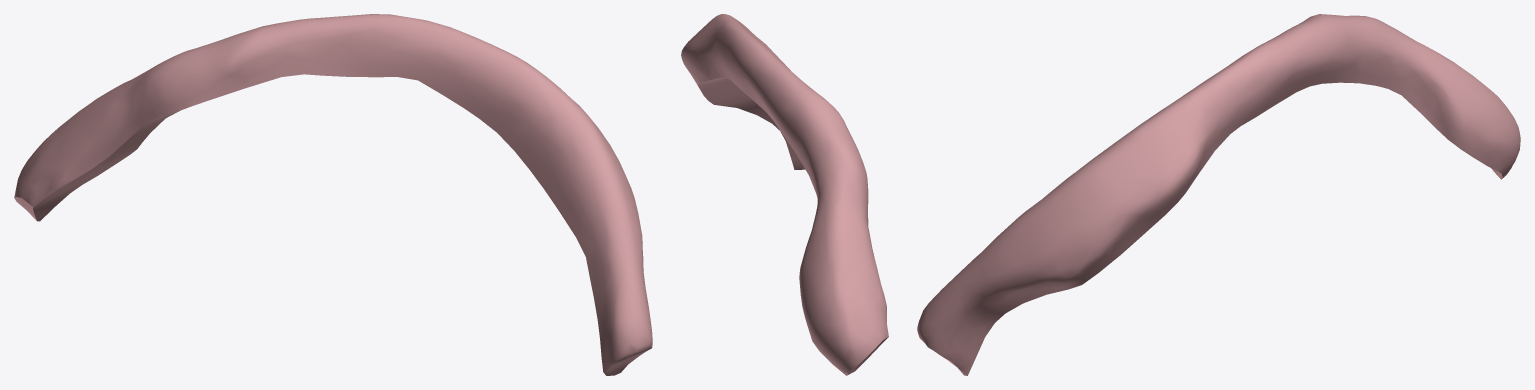
The model's file is fma16915_mm1607.glb.
The picture shows the model from 3 angles, left to right: view 1: azimuth 30°, elevation 25°; view 2: azimuth 150°, elevation 25°; view 3: azimuth 270°, elevation 25°; orthographic projection. The views are drawn at different scales.
Visible parts, largest first — view 1: FMA16915_MM1607; view 2: FMA16915_MM1607; view 3: FMA16915_MM1607.
Boxes of the visible parts, x1,y1,x2,y2 form: FMA16915_MM1607: [14, 14, 652, 375]; FMA16915_MM1607: [681, 14, 888, 375]; FMA16915_MM1607: [917, 14, 1520, 375].
Size of the model in its own units: 0.1085 by 0.0705 by 0.1376.
